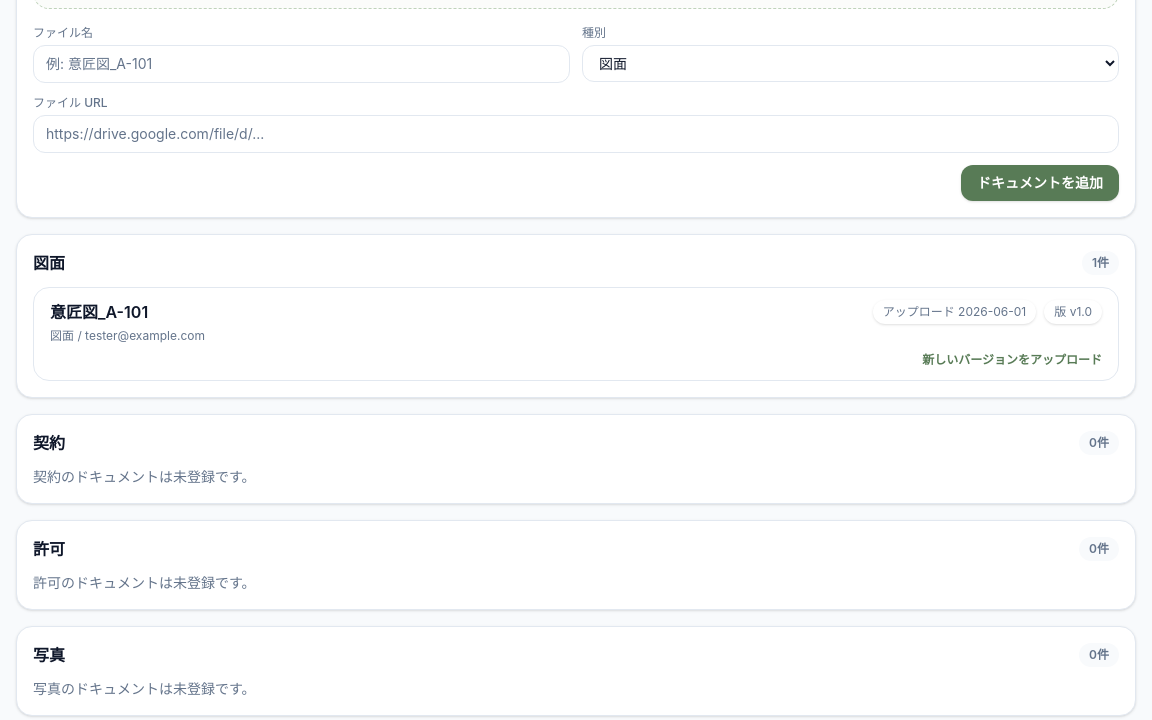
Scenario: DocumentsPage - 既存資料への新バージョンアップロード › 新しいバージョンをアップロードすると documentRepository.create ではなく update を呼び、旧urlが履歴に退避される
(page scrolled)
Expected: the text "意匠図_A-101" is shown, [50,302,148,322]
Click the button "新しいバージョンをアップロード".
click(1012, 360)  # box [922,352,1102,368]
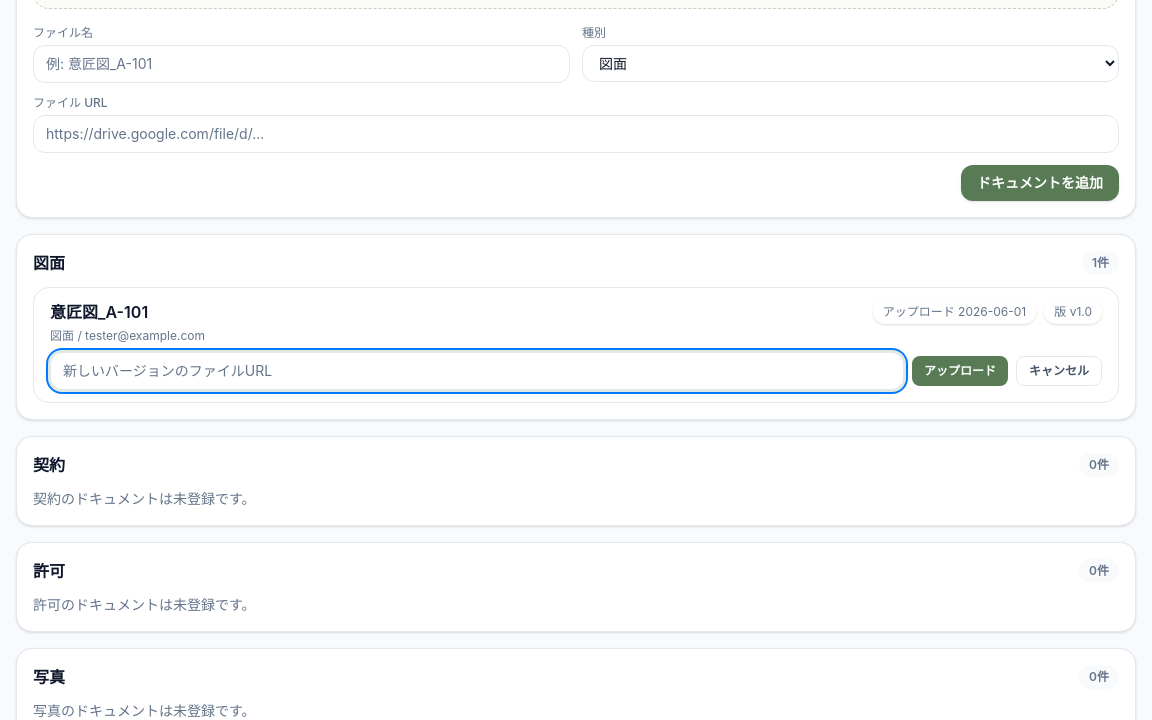
Type "https://drive.google.com/file/d/updated/view" into the field with placeholder "新しいバージョンのファイルURL".
click(477, 371); type("https://drive.google.com/file/d/updated/view")  # box [50,352,904,390]
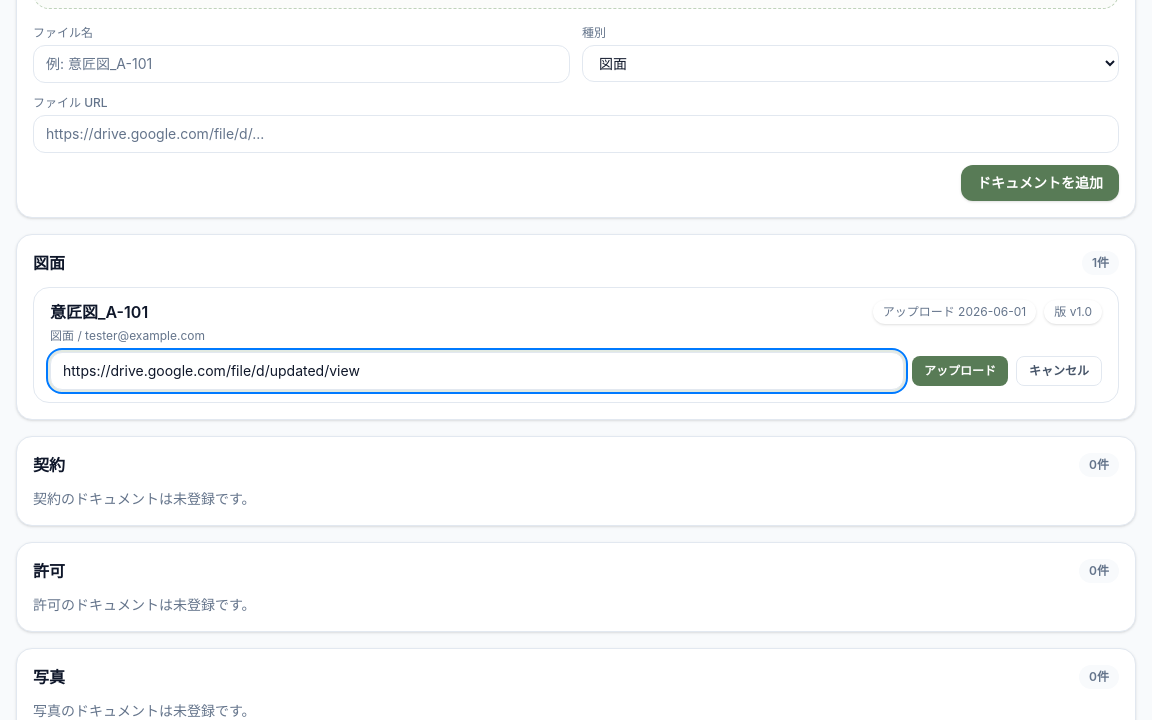
Click the button "アップロード".
click(960, 371)  # box [912,356,1008,386]
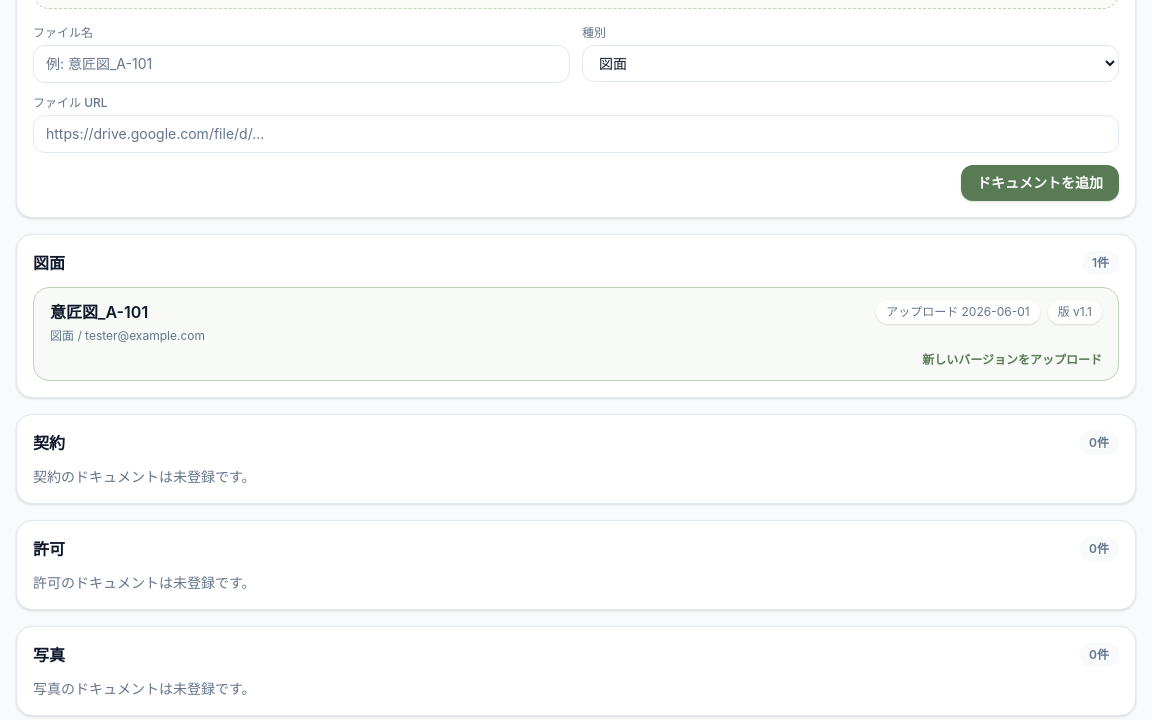
Expected: the text "版 v1.1" is shown, [1048,300,1102,324]
Expected: the number of buttons "新しいバージョンをアップロード" is 1, [922,352,1102,368]
